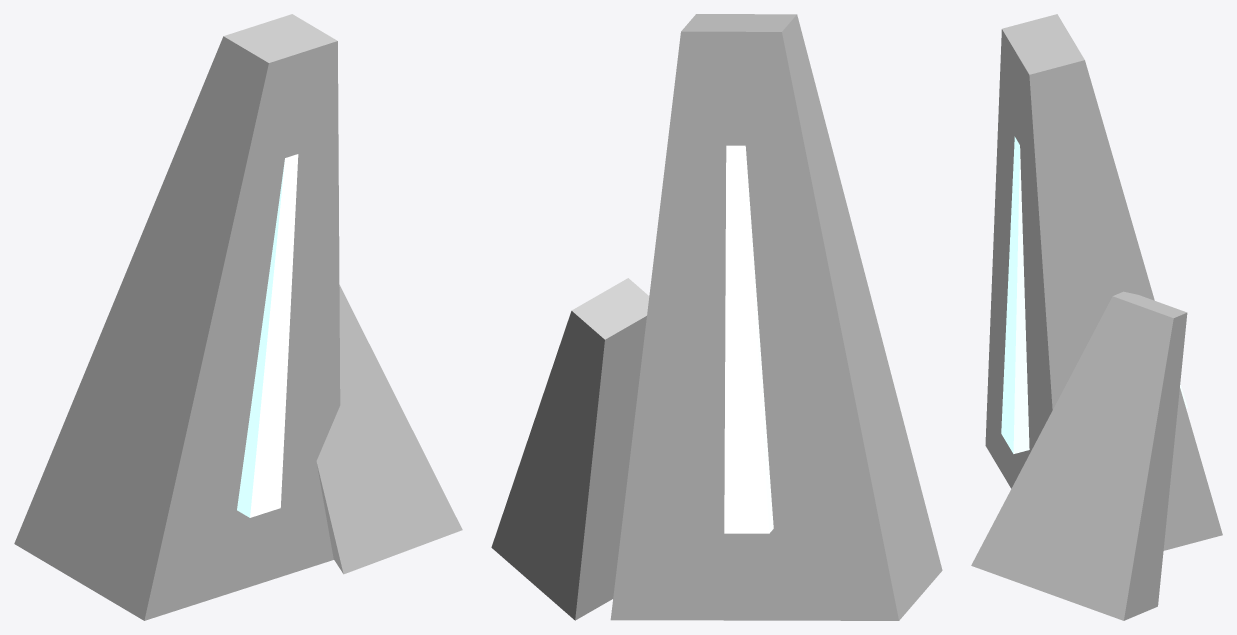
The model's file is rune_shard.glb.
3 views of the same model, side by side, from view 1: azimuth 30°, elevation 25°; view 2: azimuth 150°, elevation 25°; view 3: azimuth 270°, elevation 25° (orthographic). The views are drawn at different scales.
Visible parts, largest first — view 1: rune_shard; view 2: rune_shard; view 3: rune_shard.
Boxes of the visible parts, x1=… form: rune_shard: x1=14, y1=14, x2=462, y2=620; rune_shard: x1=491, y1=14, x2=942, y2=620; rune_shard: x1=971, y1=14, x2=1222, y2=620.
Size of the model in its own units: 0.2604 by 0.3471 by 0.1506.
